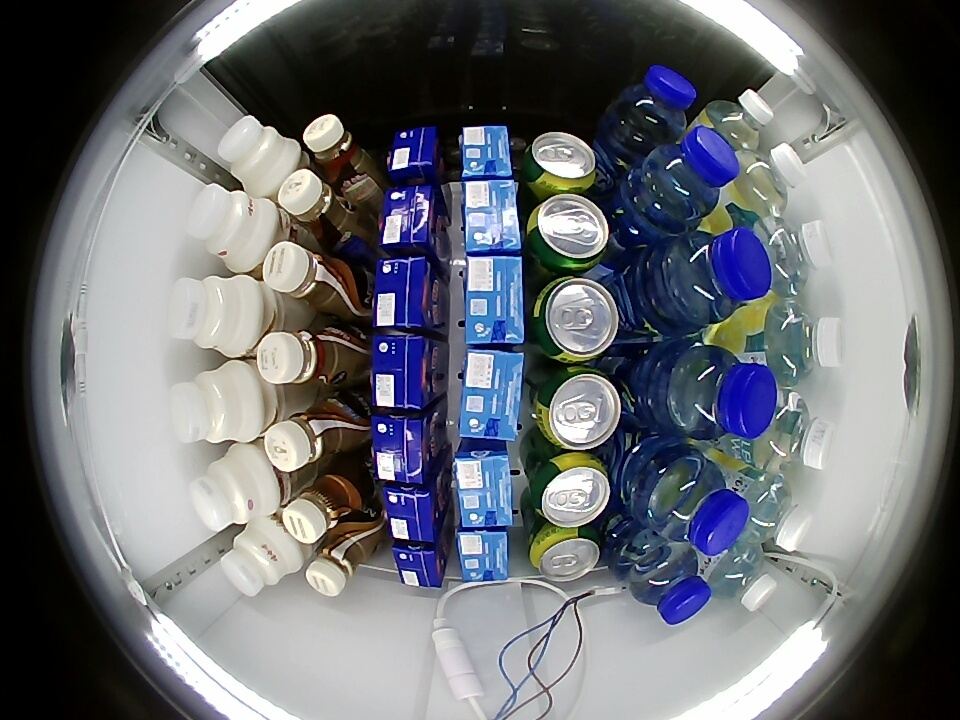bingqilinniunai: (371, 332, 436, 410), (370, 410, 438, 484), (460, 178, 523, 256), (372, 257, 438, 330), (378, 184, 442, 256), (381, 480, 444, 542), (386, 126, 441, 183)
kafei: (263, 393, 365, 472), (262, 242, 362, 321), (277, 169, 366, 253), (257, 323, 362, 392), (281, 464, 371, 543), (302, 114, 377, 190), (305, 523, 379, 596)
maidong: (663, 228, 772, 326), (667, 345, 778, 441), (645, 456, 750, 557), (638, 126, 740, 223), (607, 65, 698, 151), (628, 544, 712, 625)
qinningshui: (745, 391, 836, 471), (763, 298, 846, 382), (748, 216, 834, 297), (729, 472, 813, 551), (729, 143, 808, 217), (703, 539, 779, 611), (702, 89, 775, 155)
weitanai: (457, 348, 526, 442), (462, 254, 526, 346), (452, 445, 514, 529), (458, 125, 513, 181), (456, 528, 509, 583), (392, 539, 446, 589)
xuebi2: (531, 276, 623, 364), (534, 367, 624, 450), (526, 194, 612, 273), (529, 452, 613, 527), (524, 132, 599, 193), (528, 526, 603, 581)
yingyangkuaixian: (187, 184, 279, 273), (168, 274, 265, 357), (189, 444, 280, 531), (170, 360, 264, 444), (218, 115, 303, 197), (220, 518, 304, 596)
